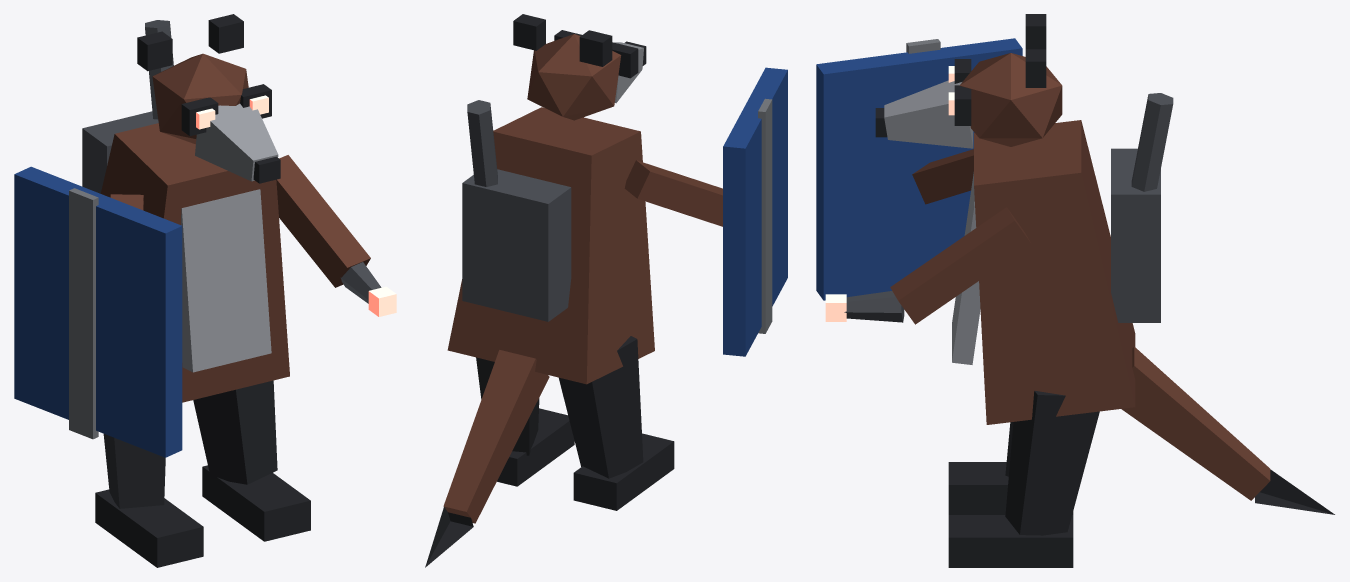
File: repairer.glb
3 renders of one model, left to right at view 1: azimuth 30°, elevation 25°; view 2: azimuth 150°, elevation 25°; view 3: azimuth 270°, elevation 25°, orthographic. The views are drawn at different scales.
Visible parts, largest first — view 1: DRepairerHull, DRepairerGlow; view 2: DRepairerHull; view 3: DRepairerHull, DRepairerGlow.
Boxes of the visible parts, <box> form: DRepairerHull: <box>14,14,381,567</box>; DRepairerGlow: <box>196,95,396,316</box>; DRepairerHull: <box>425,14,787,567</box>; DRepairerHull: <box>816,14,1334,567</box>; DRepairerGlow: <box>825,66,954,321</box>.
Size of the model in its own units: 0.8365 by 1.3 by 1.25.
